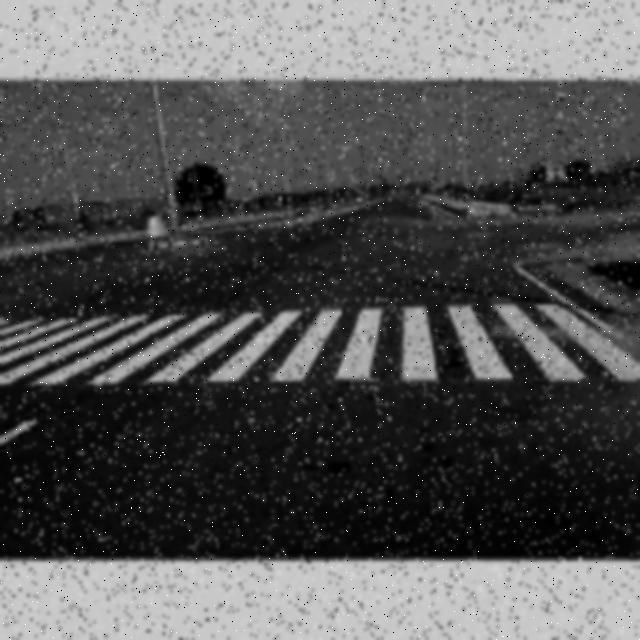Pedestrian crosswalk: (3, 276, 603, 442)
